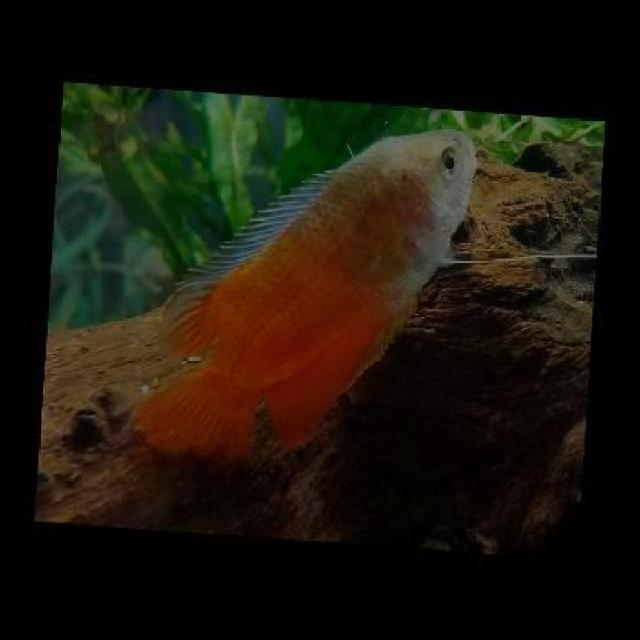Gourami: (121, 120, 482, 452)
